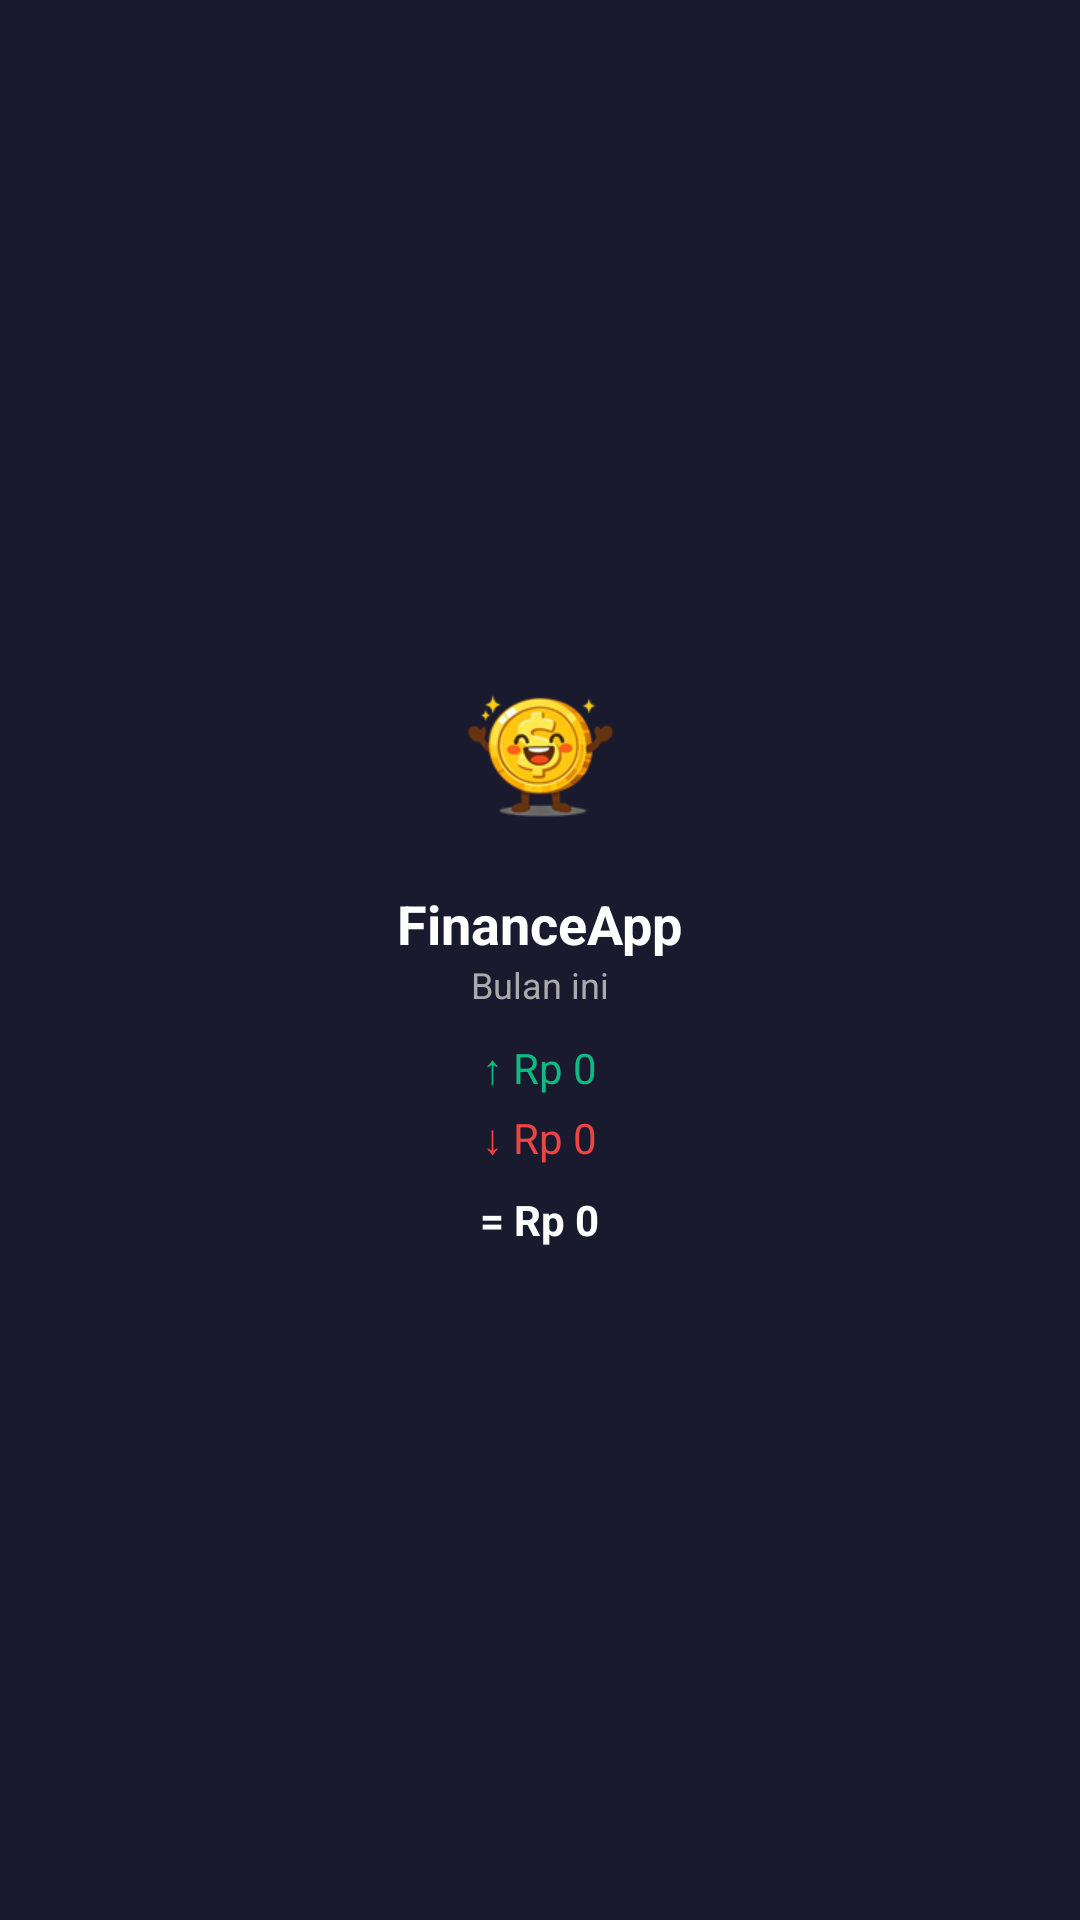

Icons on this 1080px x 1920px Android screen, each with its box as rect(x1, y1, x2, y2):
Karakter: rect(468, 696, 613, 817)
